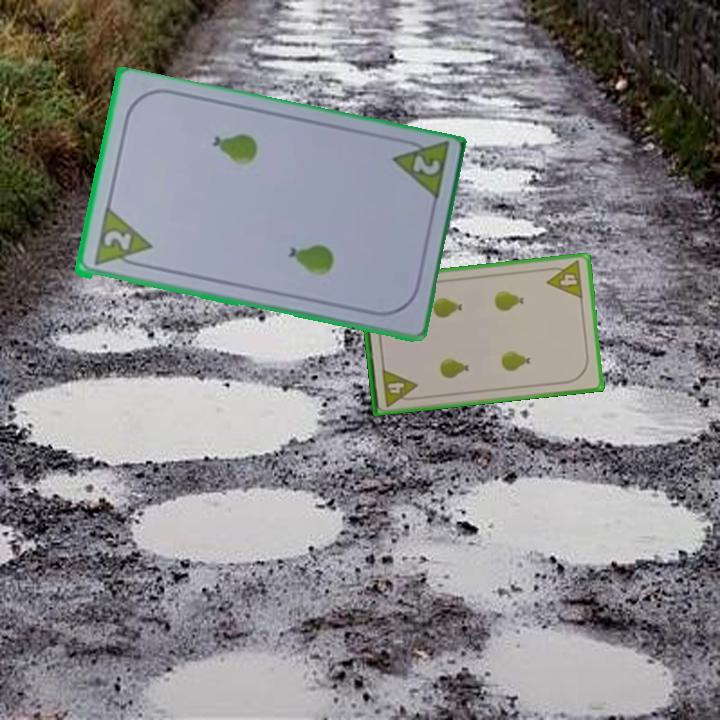2p: (89, 206, 154, 272), (408, 152, 443, 179)
4p: (542, 257, 586, 302), (378, 365, 421, 409)
